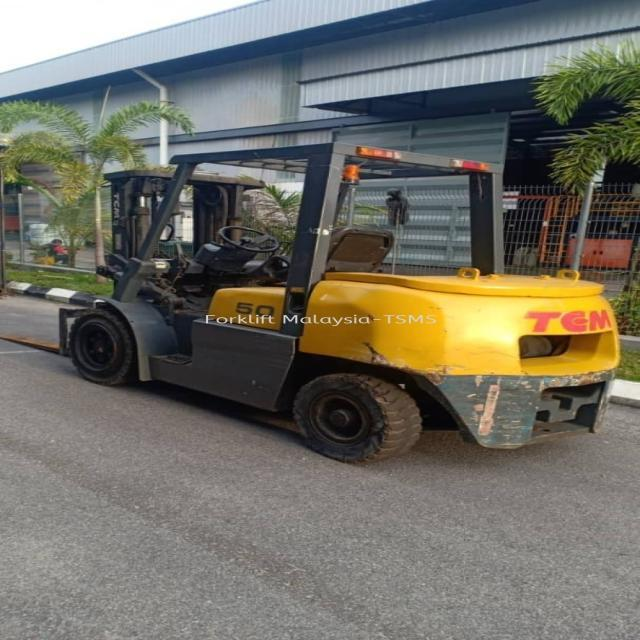forklift: (64, 144, 626, 478)
